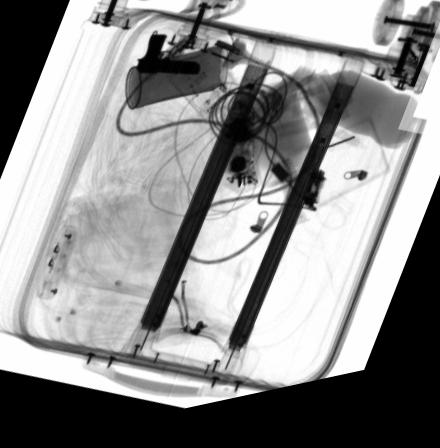Gun: (135, 42, 202, 84)
